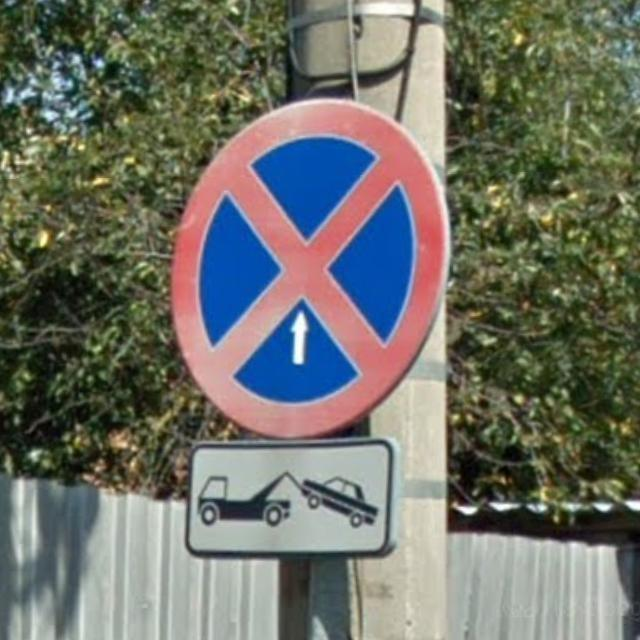forb_waiting: (171, 98, 443, 439)
